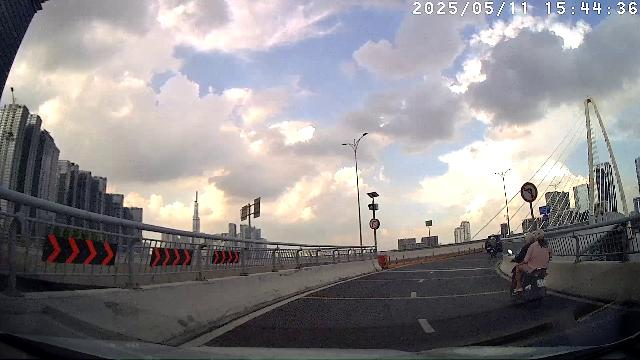123a-cam-re-trai: (520, 182, 538, 202)
123b-cam-re-phai: (369, 218, 379, 230)
